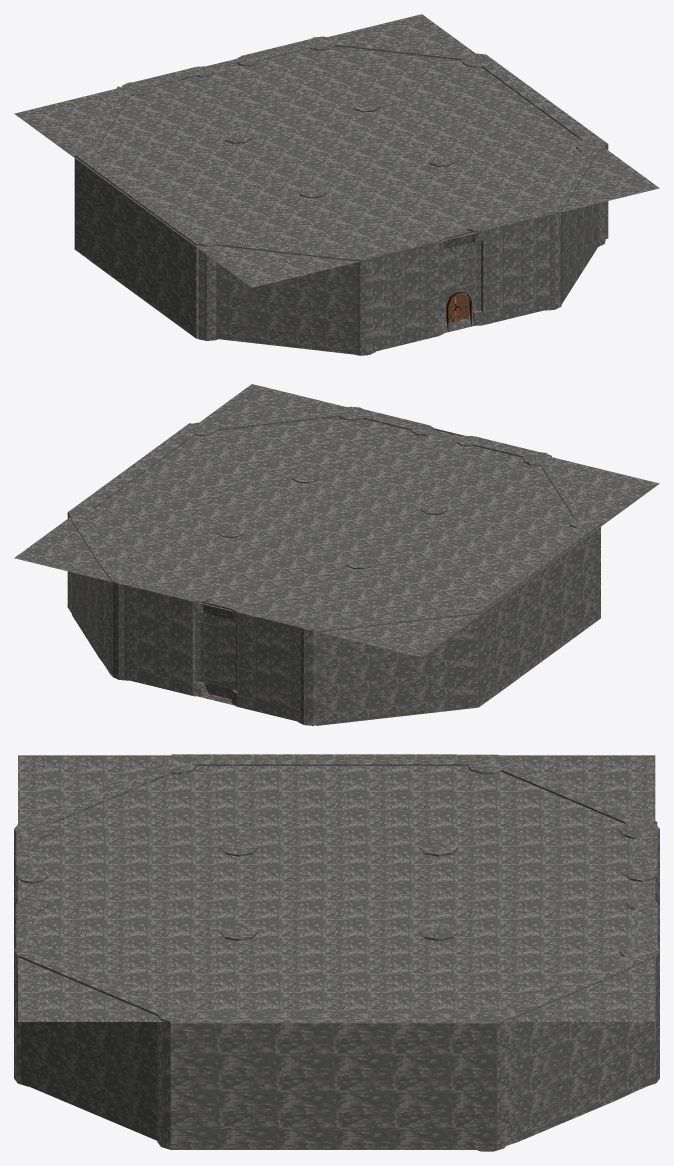
The model's file is arena2.2.fbx.
3 renders of one model, top to bottom at view 1: azimuth 30°, elevation 25°; view 2: azimuth 150°, elevation 25°; view 3: azimuth 270°, elevation 25°, orthographic. The views are drawn at different scales.
Visible parts, largest first — view 1: walls.001, walls.004, walls.003, door.002; view 2: walls.001, walls.004, walls.003; view 3: walls.001, walls.004, walls.003.
Boxes of the visible parts, x1=… form: walls.001: x1=14, y1=14, x2=659, y2=287; walls.004: x1=74, y1=36, x2=608, y2=355; walls.003: x1=223, y1=99, x2=455, y2=198; door.002: x1=446, y1=291, x2=471, y2=332; walls.001: x1=14, y1=384, x2=659, y2=657; walls.004: x1=67, y1=406, x2=600, y2=725; walls.003: x1=216, y1=470, x2=448, y2=569; walls.001: x1=18, y1=755, x2=655, y2=1021; walls.004: x1=14, y1=754, x2=659, y2=1151; walls.003: x1=219, y1=838, x2=458, y2=940.
Bounding box in the file's own units: 206 × 45.91 × 209.
7 materials, 4 textured.
